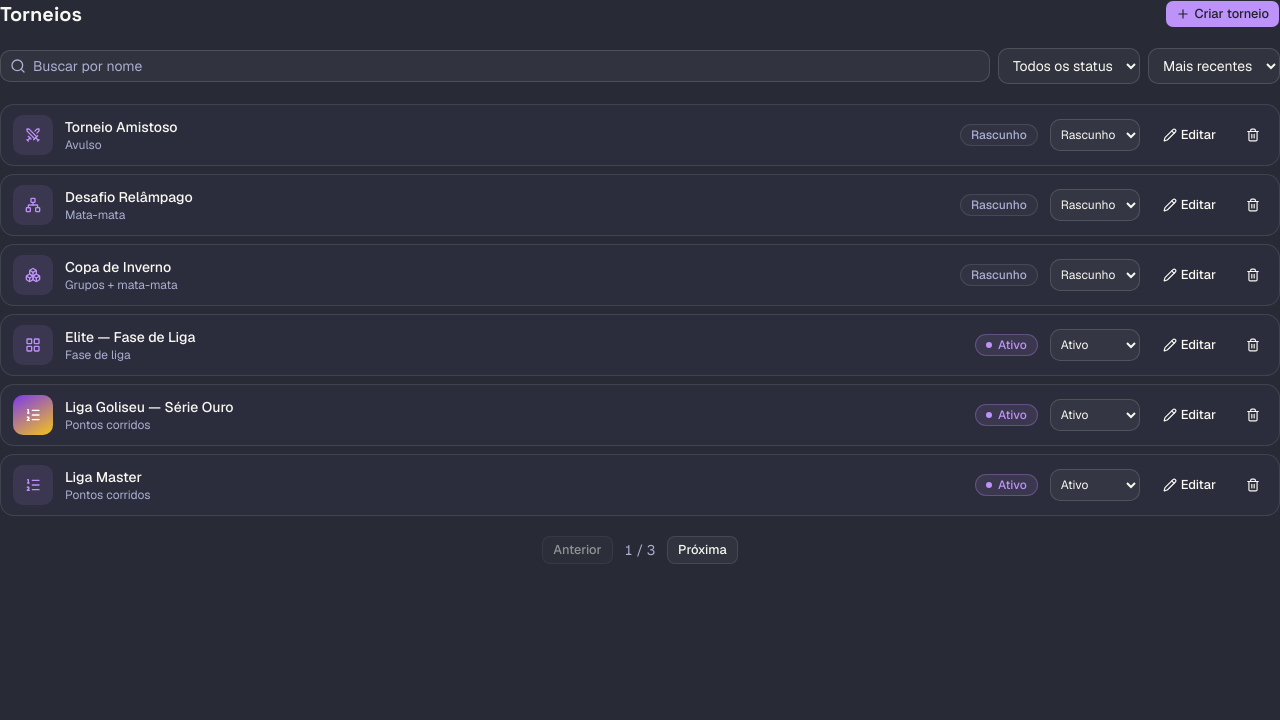
render da demonstração (sem sessão) › excluir um torneio exige confirmação (só some após confirmar)
# Isola um torneio pela busca.
Type "Série Ouro" into the field with placeholder "Buscar por nome". click: [495, 66]
box: [0,50,990,82]
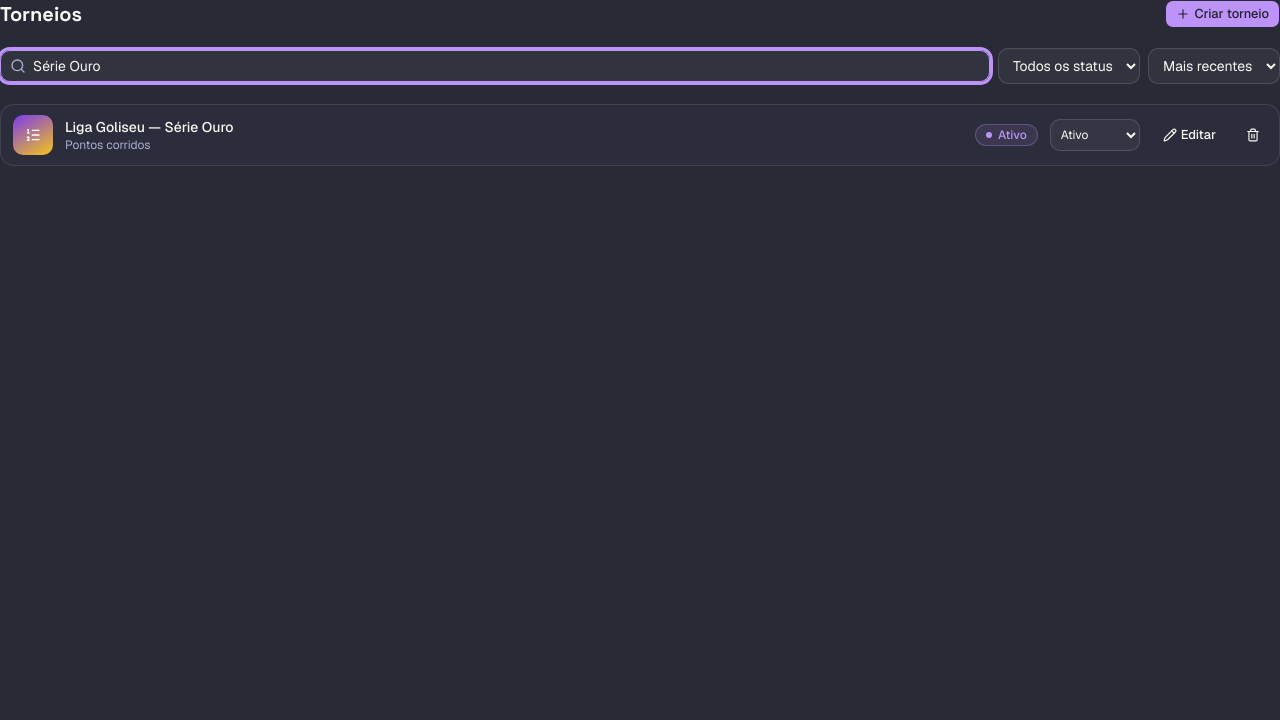
Expected: the link "Liga Goliseu — Série Ouro" is shown, [65,118,234,136]
# Abre o dialog de exclusão — o torneio AINDA está listado.
Click the button named "Excluir Liga Goliseu — Série Ouro". click: [1253, 135]
box: [1239,121,1267,149]
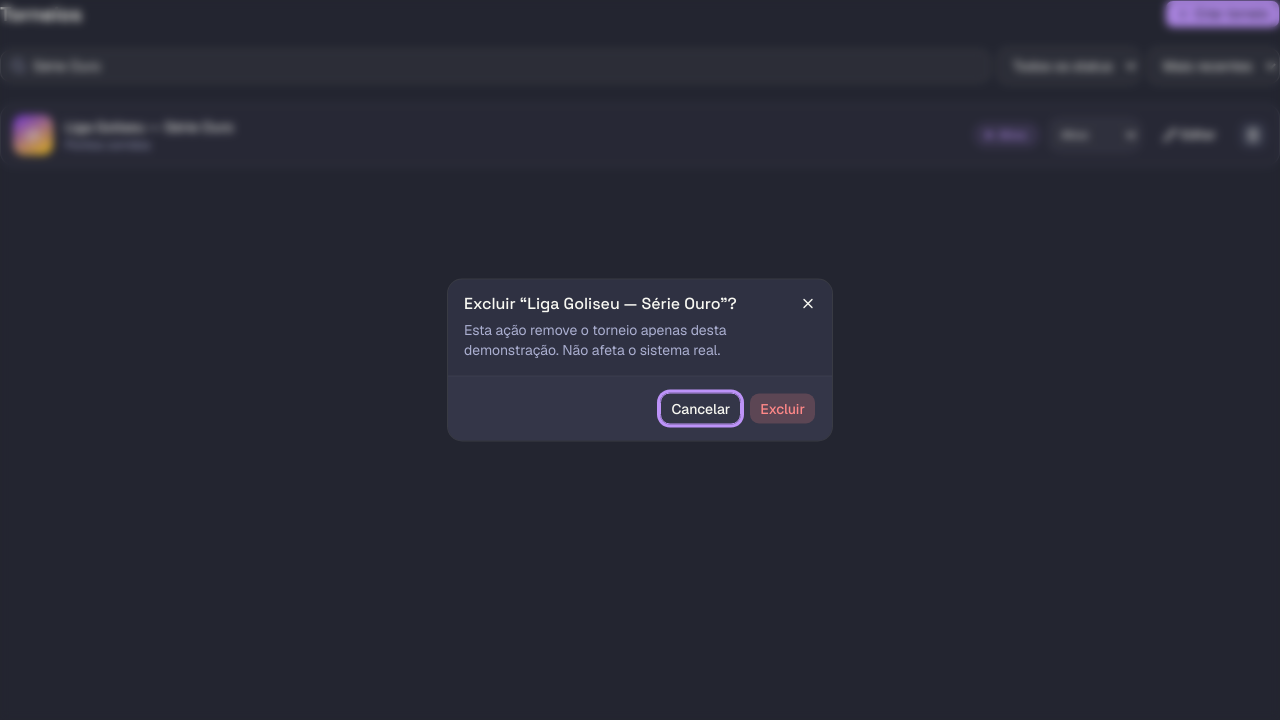
Expected: the link "Liga Goliseu — Série Ouro" is shown, [65,118,234,136]
# Confirma no dialog (botão com nome exato "Excluir").
Click the button "Excluir". click: [783, 408]
box: [749,392,816,424]
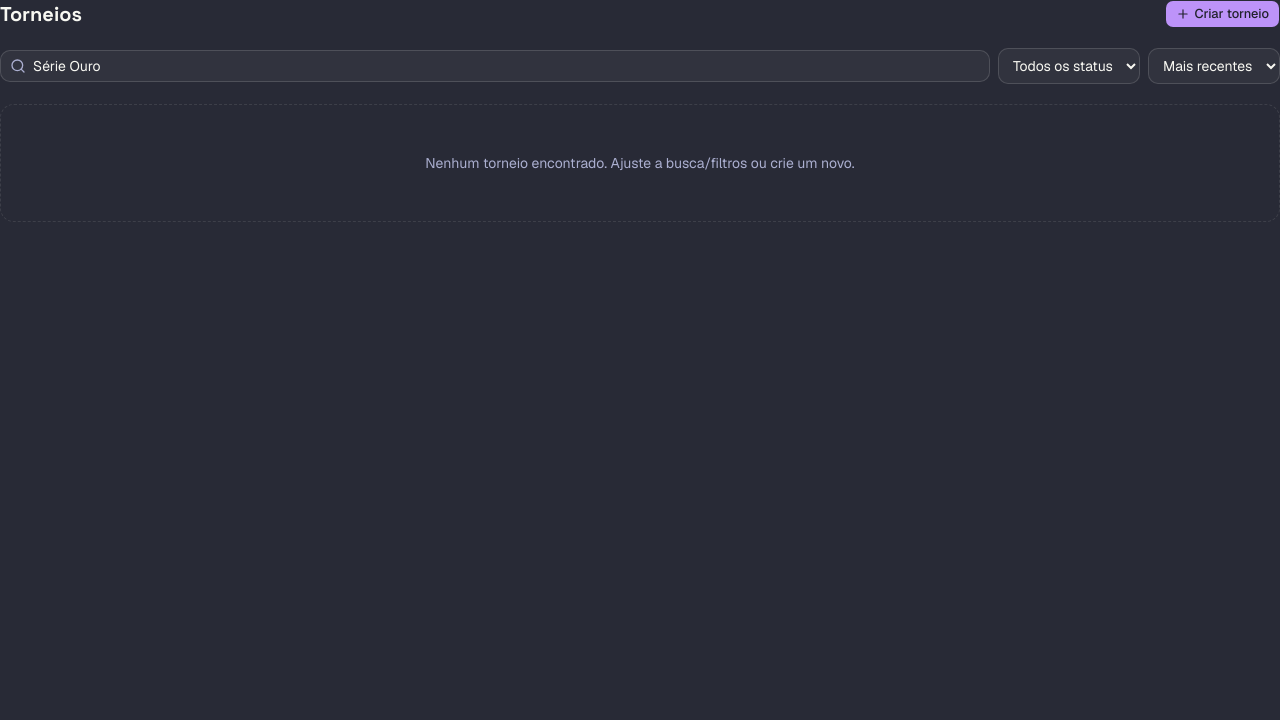
Expected: the link "Liga Goliseu — Série Ouro" is gone
